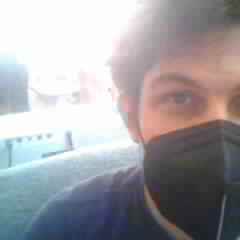with_mask: (143, 24, 240, 234)
